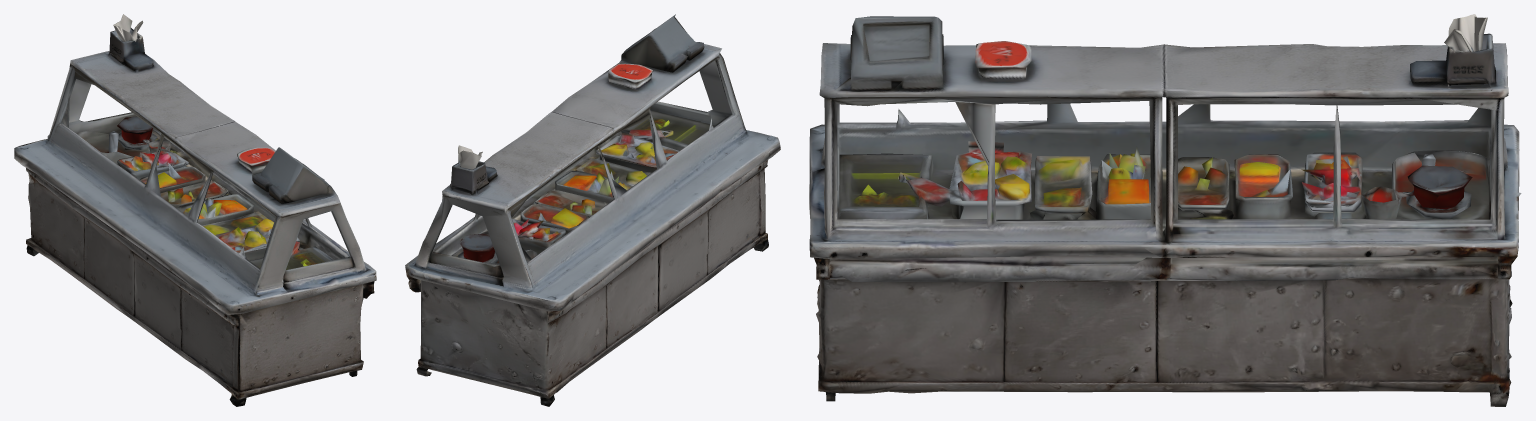
Rendered from barra.glb.
3 views of the same model, side by side, from view 1: azimuth 30°, elevation 25°; view 2: azimuth 150°, elevation 25°; view 3: azimuth 270°, elevation 25° (orthographic). The views are drawn at different scales.
Visible parts, largest first — view 1: tripo_node_8702d5da-01b7-4884-b7ca-ba355d3add2b; view 2: tripo_node_8702d5da-01b7-4884-b7ca-ba355d3add2b; view 3: tripo_node_8702d5da-01b7-4884-b7ca-ba355d3add2b.
Boxes of the visible parts, <box> form: tripo_node_8702d5da-01b7-4884-b7ca-ba355d3add2b: <box>14,14,376,406</box>; tripo_node_8702d5da-01b7-4884-b7ca-ba355d3add2b: <box>405,14,780,406</box>; tripo_node_8702d5da-01b7-4884-b7ca-ba355d3add2b: <box>809,14,1521,406</box>.
Size of the model in its own units: 0.3919 by 0.55 by 0.9801.
Materials: 1 (1 with a texture image).
